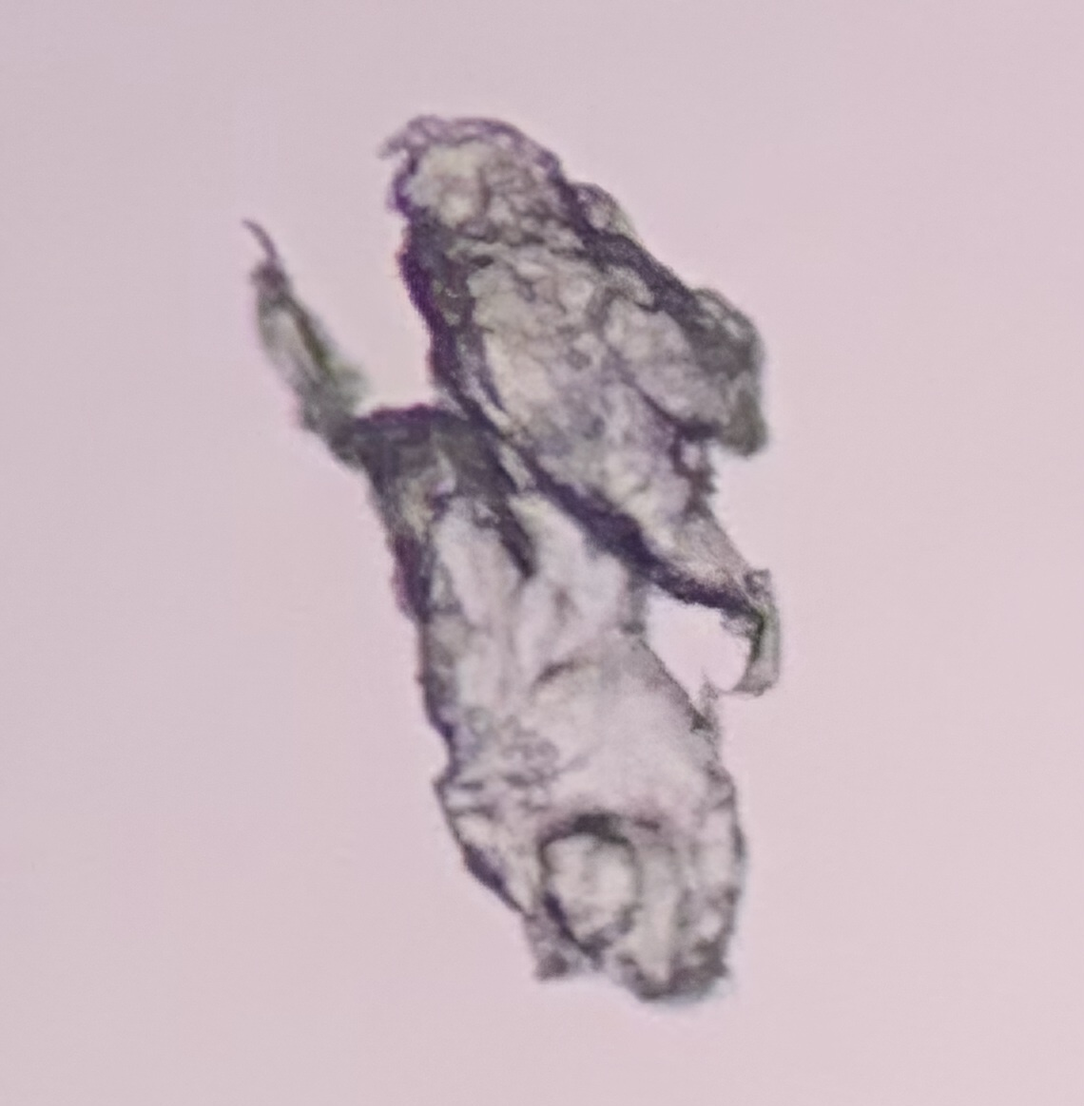microplastic: (242, 110, 784, 1016)
